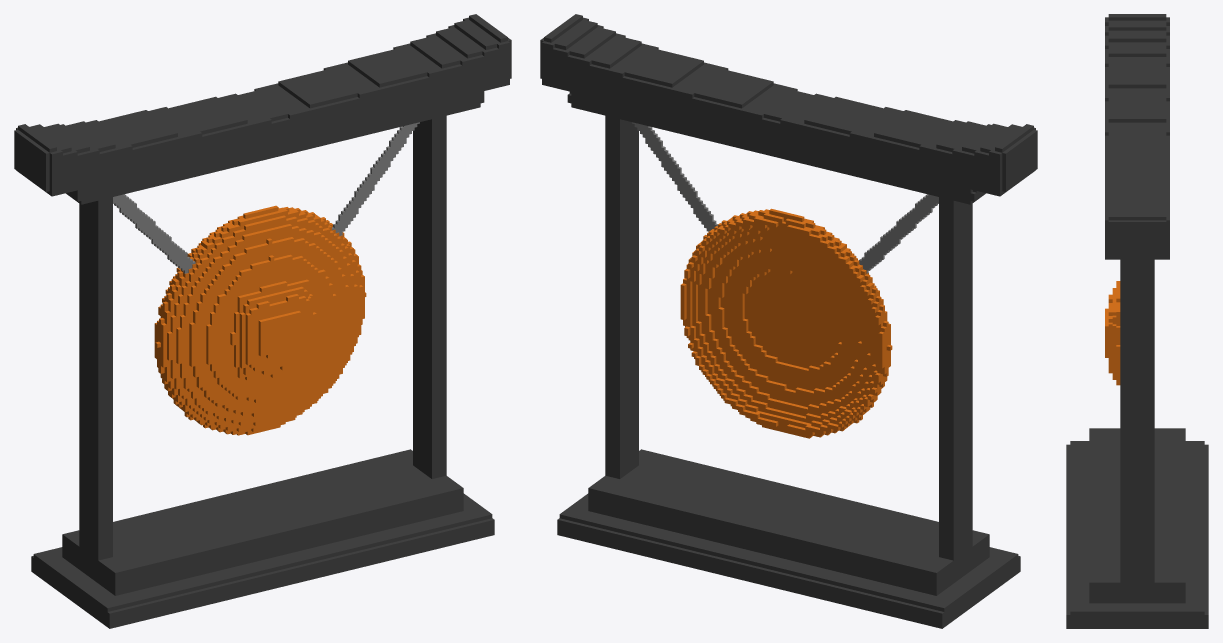
The model's file is Gong.fbx.
The picture shows the model from 3 angles, left to right: view 1: azimuth 30°, elevation 25°; view 2: azimuth 150°, elevation 25°; view 3: azimuth 270°, elevation 25°; orthographic projection. The views are drawn at different scales.
Parts seen in each view (by area): view 1: Cube; view 2: Cube; view 3: Cube.
Boxes of the visible parts, <box> form: Cube: <box>14,14,511,628</box>; Cube: <box>540,14,1037,628</box>; Cube: <box>1066,14,1208,628</box>.
Size of the model in its own units: 704 by 682 by 205.
